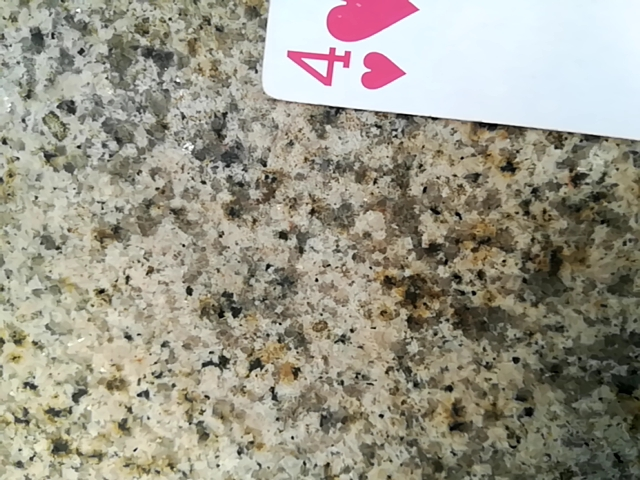hx 4: (253, 0, 640, 167)
